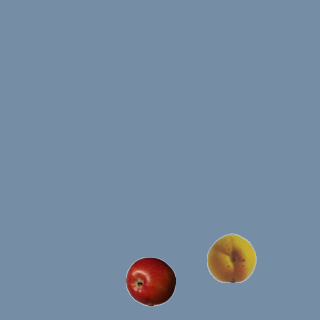Apple Braeburn: (125, 256, 175, 306)
Peach 2: (206, 232, 256, 282)
